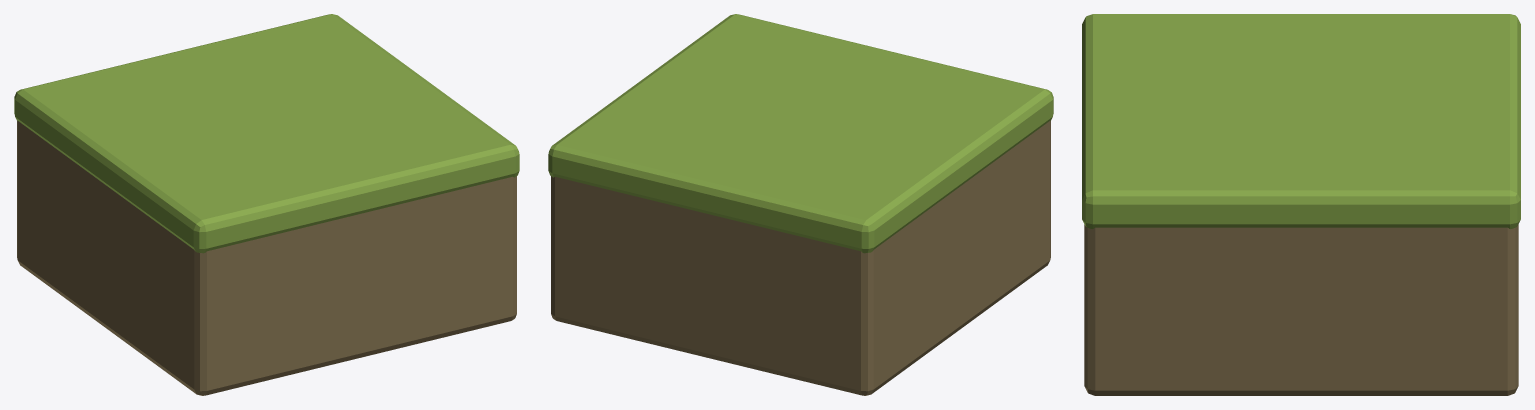
File: SM_Platform_2m_01_A.fbx
The picture shows the model from 3 angles, left to right: view 1: azimuth 30°, elevation 25°; view 2: azimuth 150°, elevation 25°; view 3: azimuth 270°, elevation 25°; orthographic projection. The views are drawn at different scales.
Visible parts, largest first — view 1: polySurface89; view 2: polySurface89; view 3: polySurface89.
Boxes of the visible parts, bbox=[...] form: polySurface89: bbox=[14, 14, 519, 395]; polySurface89: bbox=[548, 14, 1053, 395]; polySurface89: bbox=[1082, 14, 1520, 395].
Bounding box in the file's own units: 202 × 105 × 202.
